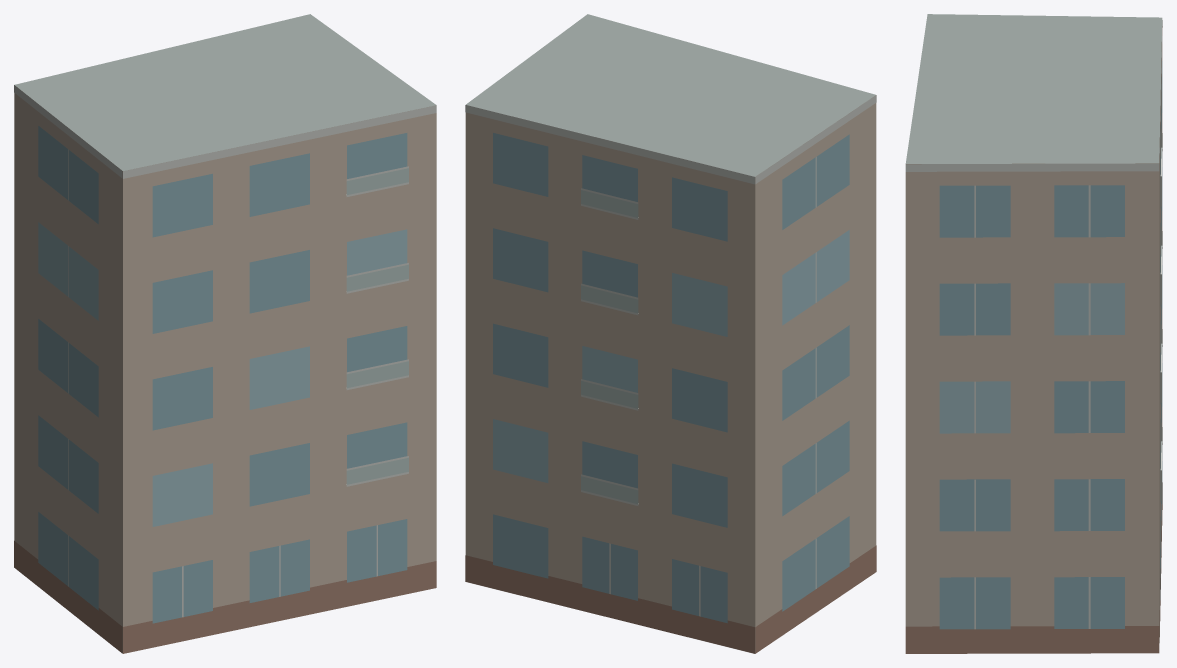
Rendered from survey-upis-33023536.glb.
The picture shows the model from 3 angles, left to right: view 1: azimuth 30°, elevation 25°; view 2: azimuth 150°, elevation 25°; view 3: azimuth 270°, elevation 25°; orthographic projection. The views are drawn at different scales.
Parts seen in each view (by area): view 1: survey-upis-33023536.tmp; view 2: survey-upis-33023536.tmp; view 3: survey-upis-33023536.tmp.
Boxes of the visible parts, bbox=[...] form: survey-upis-33023536.tmp: bbox=[14, 14, 436, 653]; survey-upis-33023536.tmp: bbox=[465, 14, 876, 653]; survey-upis-33023536.tmp: bbox=[905, 14, 1162, 653].
Size of the model in its own units: 10.03 by 15.25 by 7.26.
